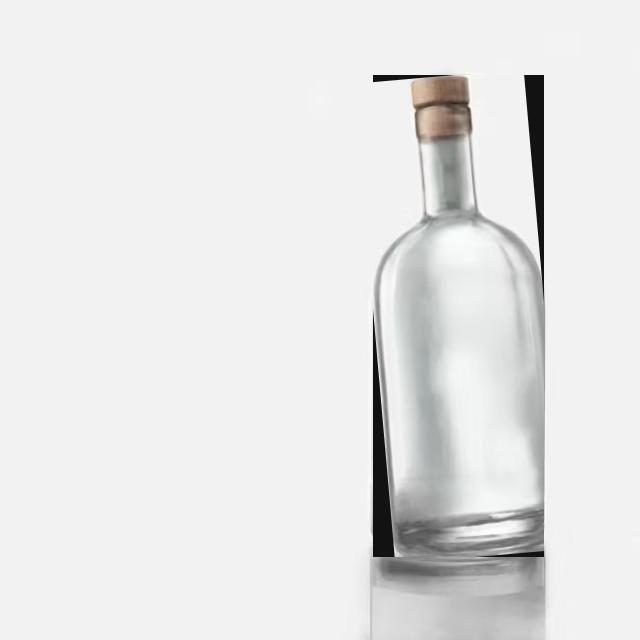Bottle: (374, 76, 543, 557)
